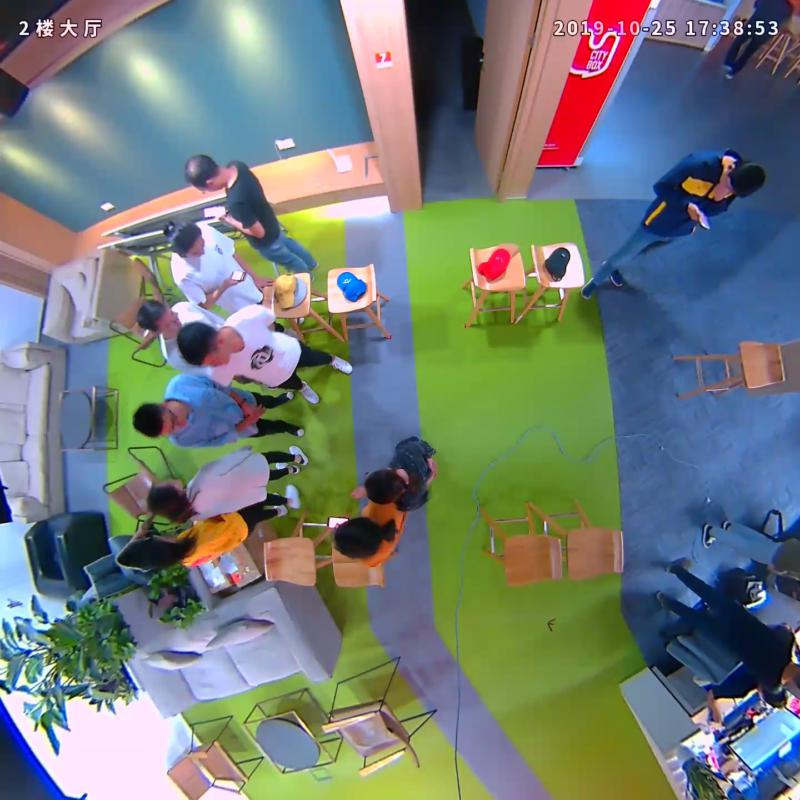head: (178, 322, 232, 366), (132, 402, 187, 439), (333, 516, 380, 559), (184, 153, 225, 192), (720, 163, 766, 197), (364, 468, 406, 505), (146, 478, 186, 516), (136, 299, 180, 333), (168, 221, 206, 259), (141, 533, 179, 567)
